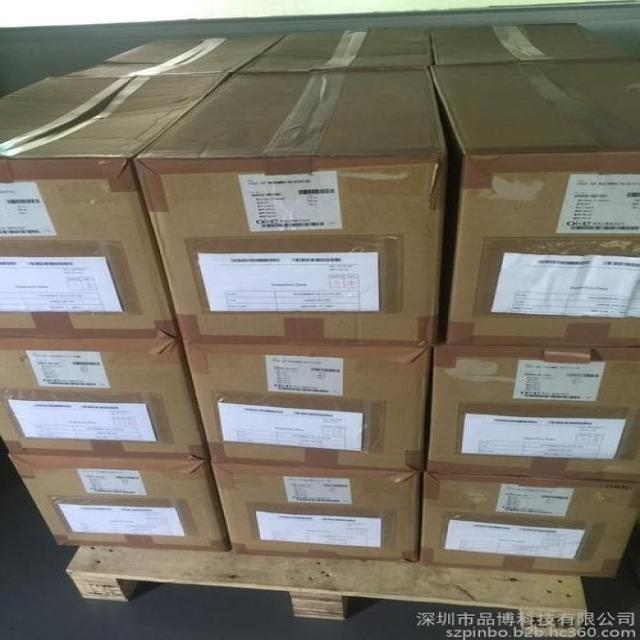box: (134, 67, 449, 345), (0, 73, 234, 339), (431, 56, 639, 347), (182, 343, 431, 472), (425, 344, 639, 484), (0, 336, 211, 460), (418, 473, 639, 578), (12, 457, 231, 553), (208, 463, 420, 561), (60, 32, 295, 76), (431, 23, 639, 66), (237, 28, 431, 71)
